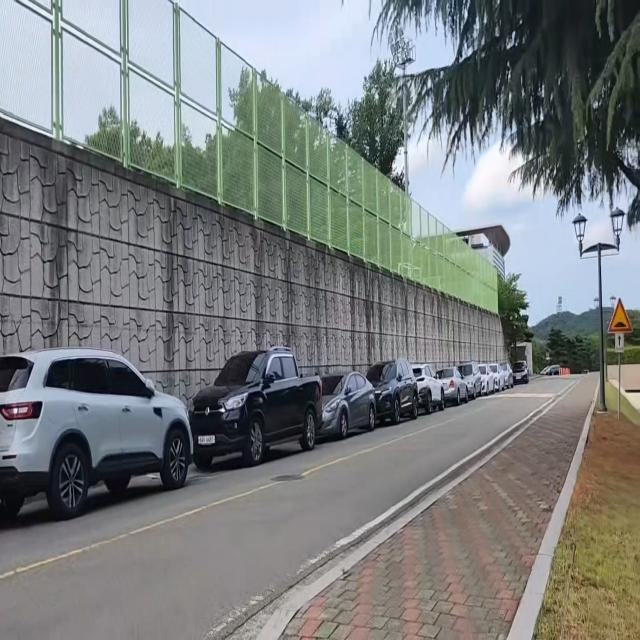obstacle: (572, 201, 627, 424)
sidewalk: (266, 372, 605, 640)
